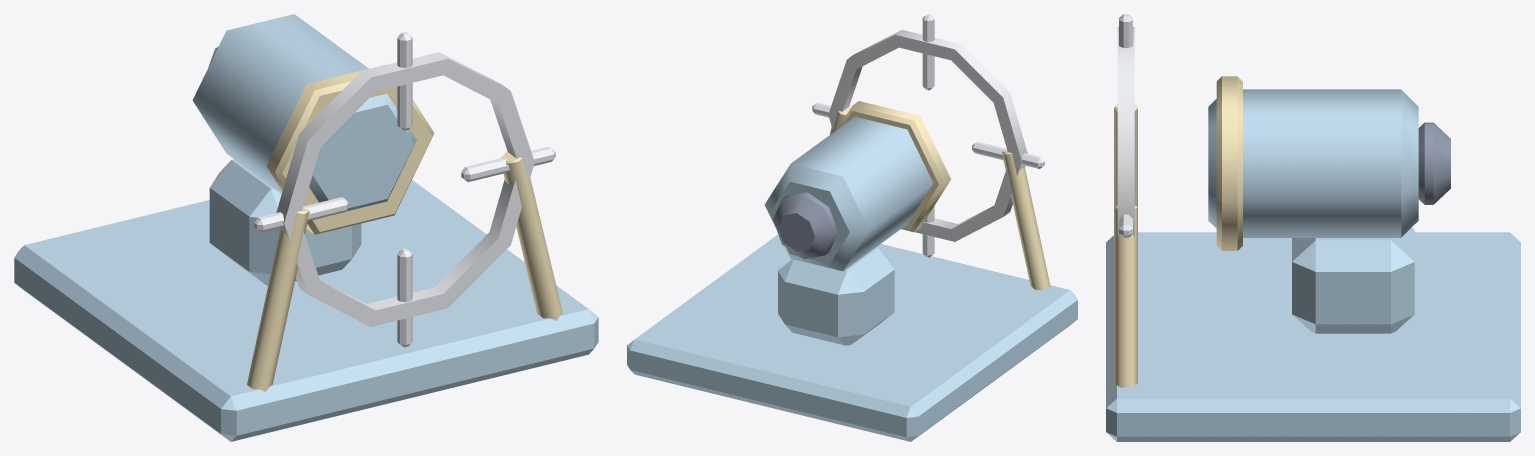
The model's file is R4X_WeakPointScanner_LOD1.glb.
3 renders of one model, left to right at view 1: azimuth 30°, elevation 25°; view 2: azimuth 150°, elevation 25°; view 3: azimuth 270°, elevation 25°, orthographic. The views are drawn at different scales.
Parts seen in each view (by area): view 1: R4X_WeakPointScanner_LOD1; view 2: R4X_WeakPointScanner_LOD1; view 3: R4X_WeakPointScanner_LOD1.
Boxes of the visible parts, bbox=[...] form: R4X_WeakPointScanner_LOD1: bbox=[14, 14, 598, 441]; R4X_WeakPointScanner_LOD1: bbox=[627, 14, 1077, 441]; R4X_WeakPointScanner_LOD1: bbox=[1106, 14, 1520, 441].
Bounding box in the file's own units: 0.52 × 0.4757 × 0.52.
